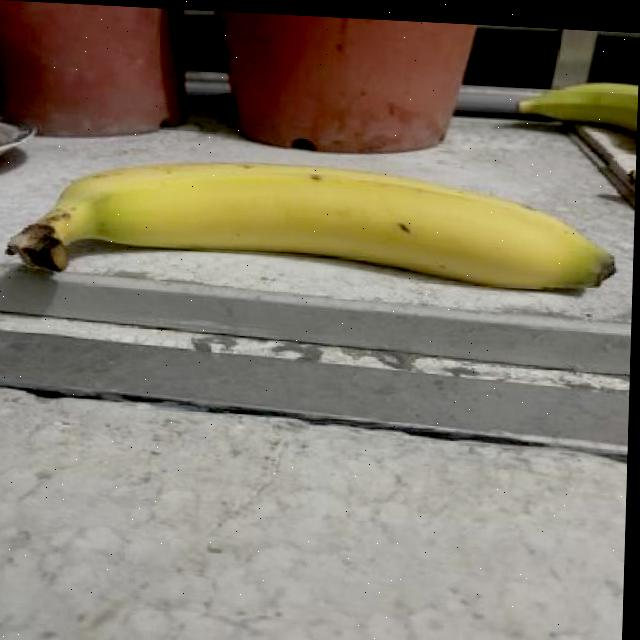banana: (3, 139, 633, 323)
